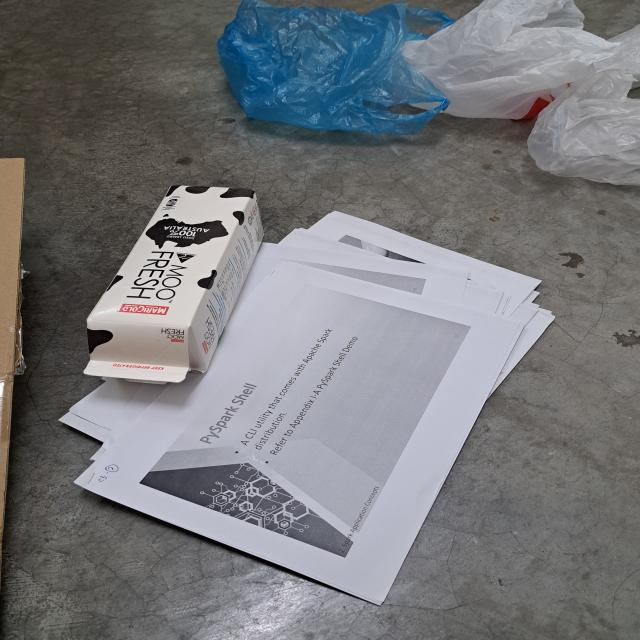drink carton: (81, 182, 266, 385)
paper: (55, 212, 555, 608)
plastic bag: (218, 0, 454, 133), (403, 0, 640, 122), (525, 95, 640, 187)
